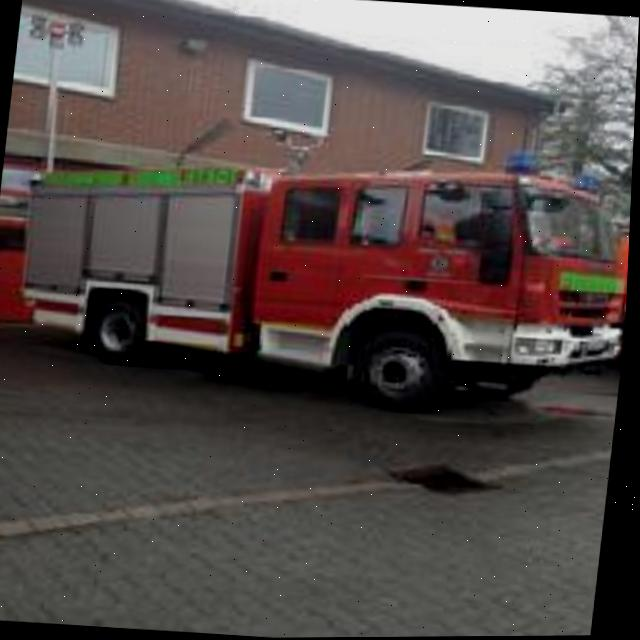emergency: (0, 115, 636, 438)
